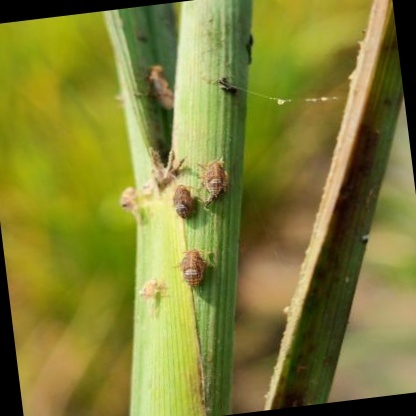Brown_hopper: (182, 146, 255, 209), (158, 172, 209, 235), (171, 238, 221, 300), (141, 46, 182, 116)
